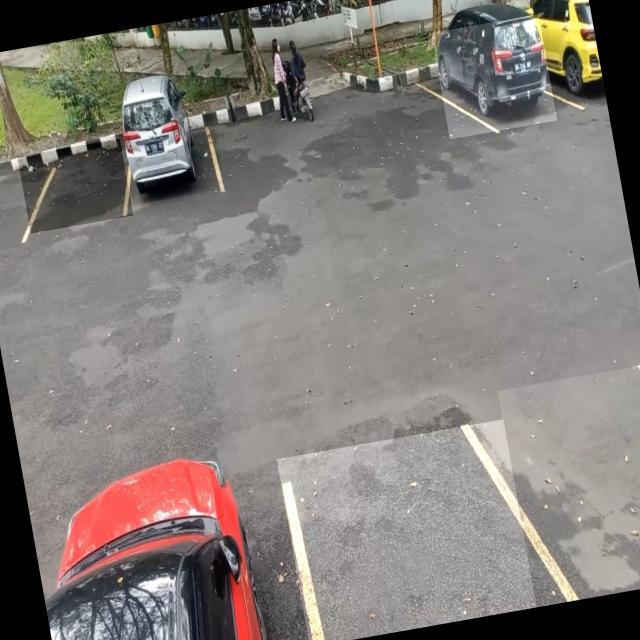empty: (276, 419, 536, 640), (497, 363, 640, 607), (17, 138, 133, 233)
occupied: (431, 14, 557, 139), (114, 92, 224, 205)
